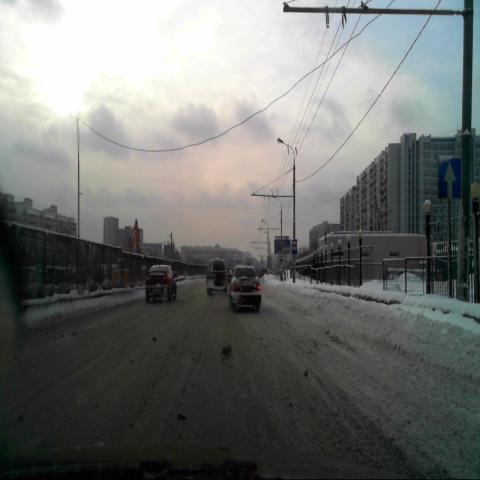5_5: (438, 158, 462, 202)
